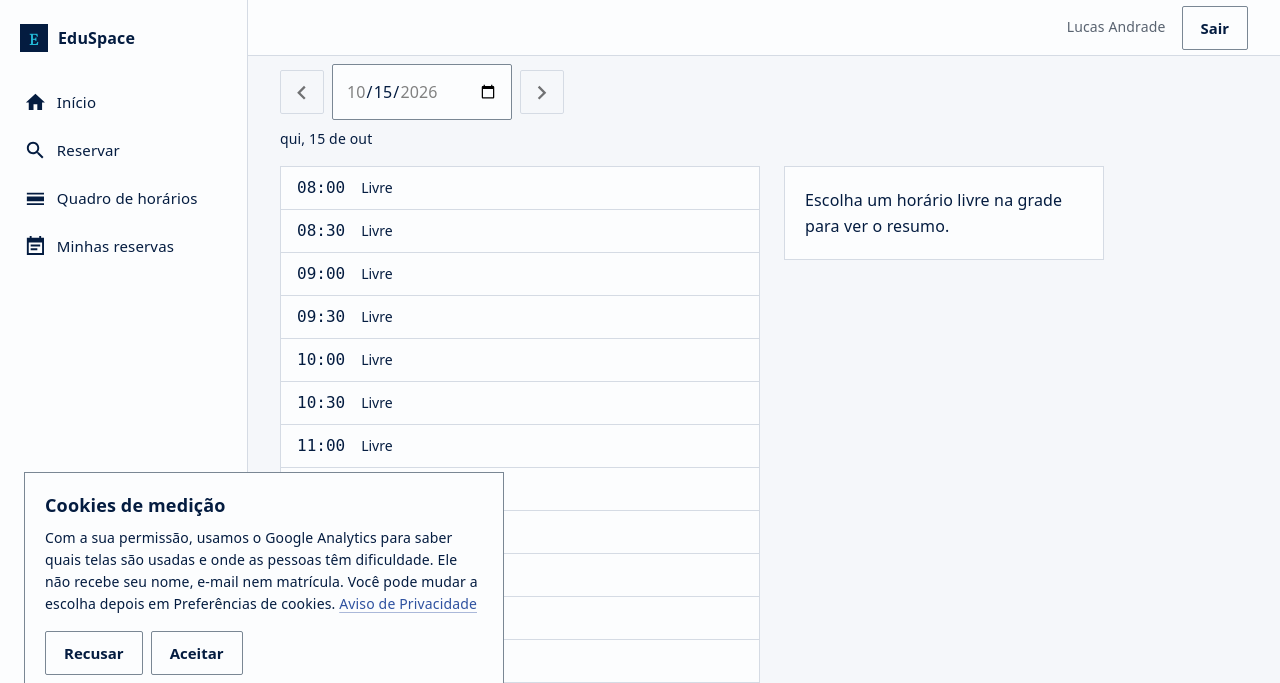
Test: resource availability grid › clicking the single selected slot again clears the selection
(page scrolled)
Click the button with aria-label "10:00 às 10:30".
click(321, 360)  # box 280,338 -> 760,382
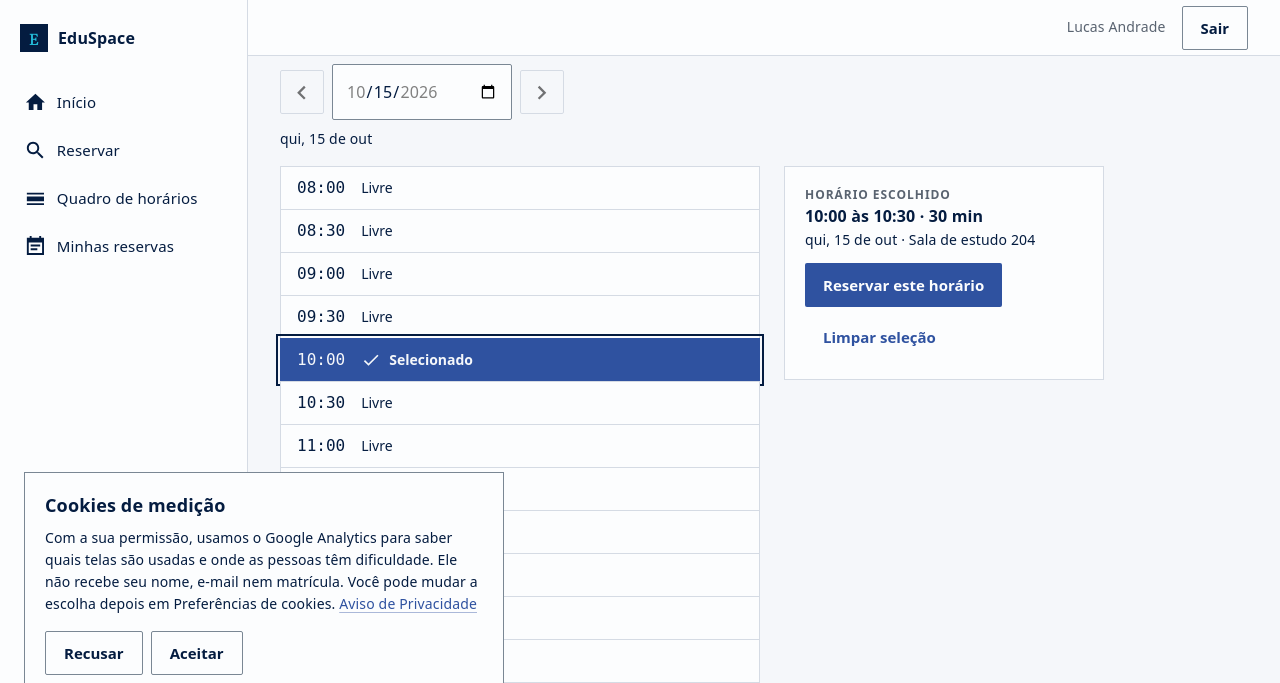
Click the button with aria-label "10:00 às 10:30".
click(321, 360)  # box 280,338 -> 760,382
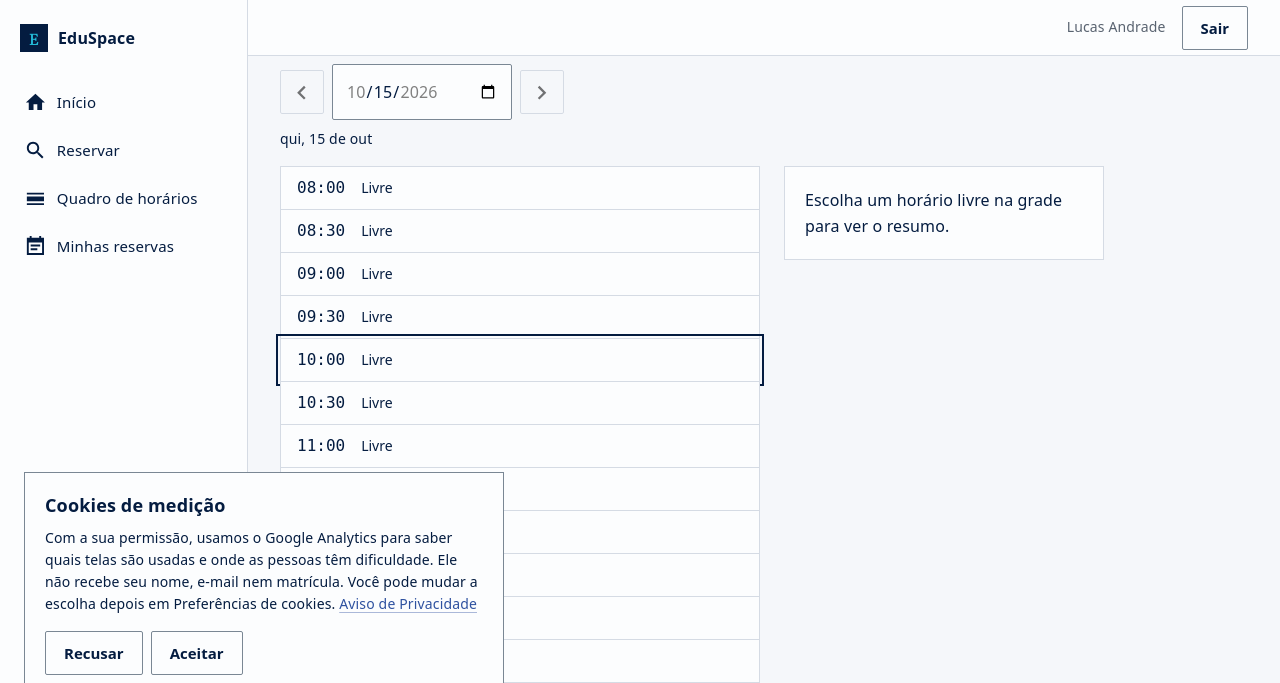
Now no the button "Reservar este horário" are shown
Now the text "Escolha um horário livre na grade para ver o resumo." is shown, box 805,187 -> 1083,239
